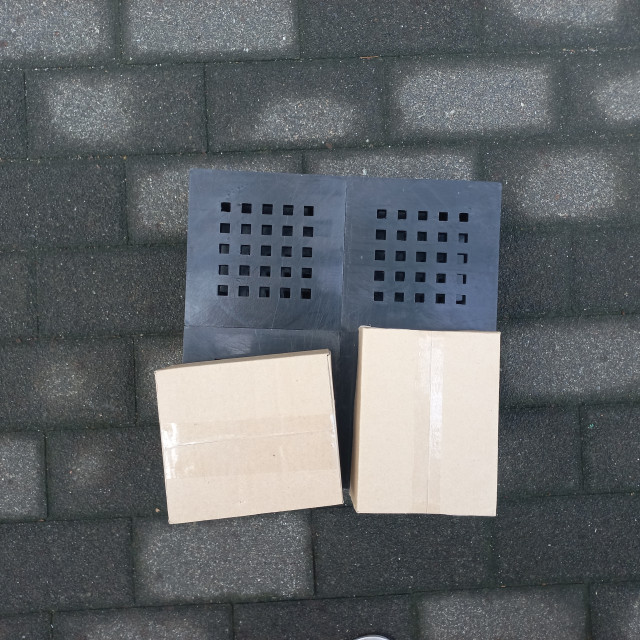box: (153, 349, 344, 527), (295, 114, 486, 290), (352, 324, 499, 518), (140, 122, 287, 316)
